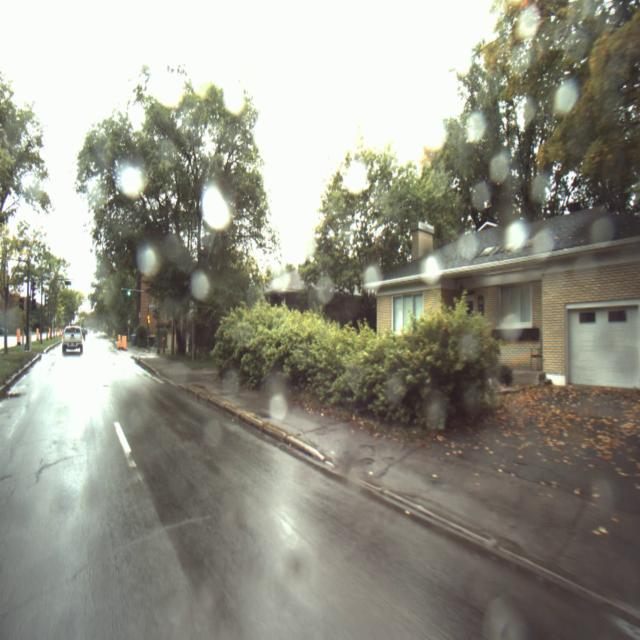car: (62, 326, 83, 357)
trafficLight: (147, 314, 151, 325)
trafficLight-Green: (126, 289, 132, 298), (67, 279, 74, 286)
